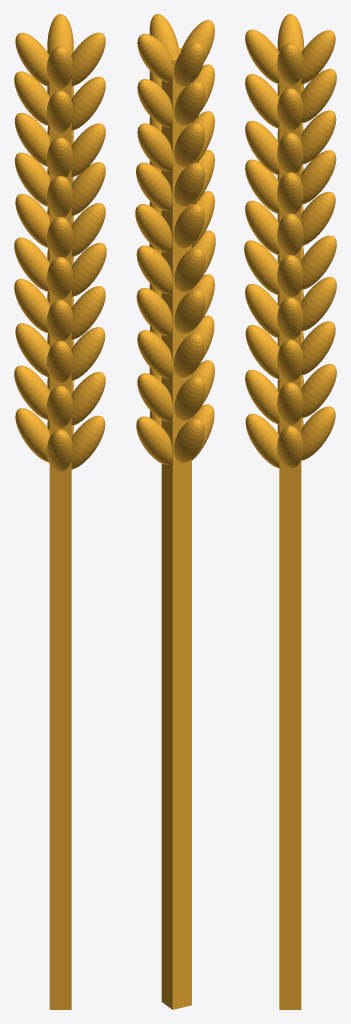
File: wheat.fbx
3 renders of one model, left to right at view 1: azimuth 90°, elevation 25°; view 2: azimuth 210°, elevation 25°; view 3: azimuth 270°, elevation 25°, orthographic.
Parts seen in each view (by area): view 1: Cube, Sphere.035, Sphere.015, Sphere.016, Sphere.018, Sphere.011, Sphere.032, Sphere.012, Sphere.030, Sphere.013, Sphere.031, Sphere.036 (+20 smaller); view 2: Cube, Sphere.004, Sphere.003, Sphere.009, Sphere.005, Sphere.006, Sphere, Sphere.007, Sphere.008, Sphere.001, Sphere.002, Sphere.016 (+20 smaller); view 3: Cube, Sphere.015, Sphere.016, Sphere.011, Sphere.035, Sphere.018, Sphere.012, Sphere.013, Sphere.036, Sphere.034, Sphere.031, Sphere.032 (+20 smaller).
Part boxes in pixels (x1,y1,x2,y2): Cube: (49,53,71,1009); Sphere.035: (71,242,106,296); Sphere.015: (14,237,49,291); Sphere.016: (14,279,49,333); Sphere.018: (14,365,49,419); Sphere.011: (14,71,49,125); Sphere.032: (71,123,105,177); Sphere.012: (14,112,49,166); Sphere.030: (71,32,105,86); Sphere.013: (14,152,49,206); Sphere.031: (71,76,105,130); Sphere.036: (71,286,105,339); Cube: (161,48,191,1009); Sphere.004: (135,204,171,252); Sphere.003: (136,162,172,210); Sphere.009: (136,416,172,464); Sphere.005: (136,245,172,293); Sphere.006: (136,288,172,336); Sphere: (137,33,172,82); Sphere.007: (137,330,172,378); Sphere.008: (137,373,172,421); Sphere.001: (137,79,172,127); Sphere.002: (137,123,172,171); Sphere.016: (174,289,205,333); Cube: (279,51,301,1009); Sphere.015: (301,235,336,289); Sphere.016: (301,277,336,331); Sphere.011: (301,69,336,123); Sphere.035: (244,240,279,294); Sphere.018: (301,364,336,418); Sphere.012: (301,110,336,164); Sphere.013: (301,150,336,204); Sphere.036: (245,284,279,338); Sphere.034: (245,200,279,255); Sphere.031: (245,74,279,128); Sphere.032: (245,120,279,175).
Size of the model in its own units: 78.24 by 933 by 80.37.
